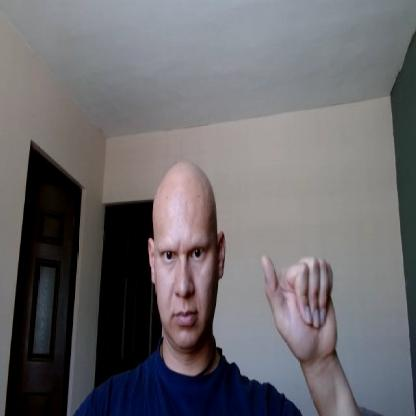A: (262, 250, 339, 356)
